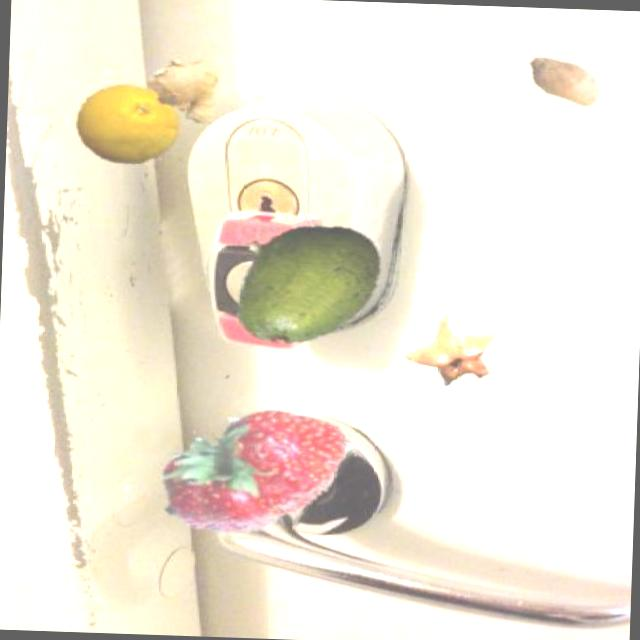Orange: (72, 80, 185, 166)
Strawberry: (145, 385, 356, 548)
